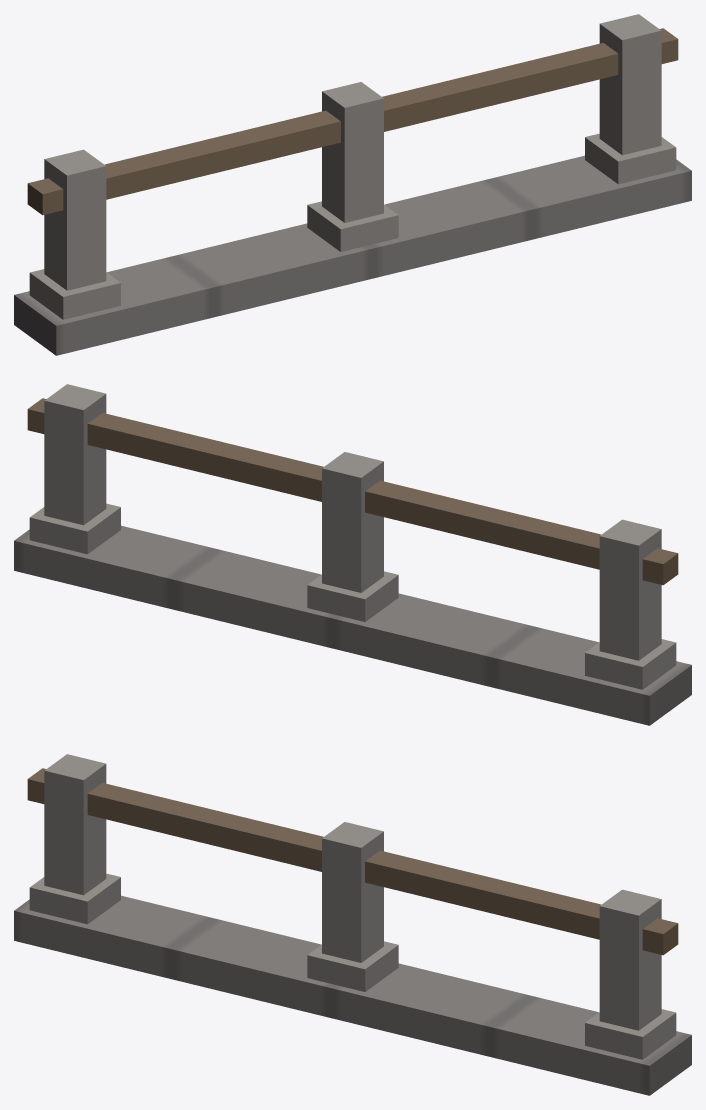
File: SD_Env_Railing_Wood_01.fbx
The picture shows the model from 3 angles, top to bottom: view 1: azimuth 30°, elevation 25°; view 2: azimuth 150°, elevation 25°; view 3: azimuth 330°, elevation 25°; orthographic projection.
Parts seen in each view (by area): view 1: SD_Env_Railing_Wood_01; view 2: SD_Env_Railing_Wood_01; view 3: SD_Env_Railing_Wood_01.
Part boxes in pixels (x1=…): SD_Env_Railing_Wood_01: x1=14, y1=14, x2=691, y2=355; SD_Env_Railing_Wood_01: x1=14, y1=384, x2=691, y2=725; SD_Env_Railing_Wood_01: x1=14, y1=754, x2=691, y2=1095.
Bounding box in the file's own units: 5 × 1.26 × 0.5761.
